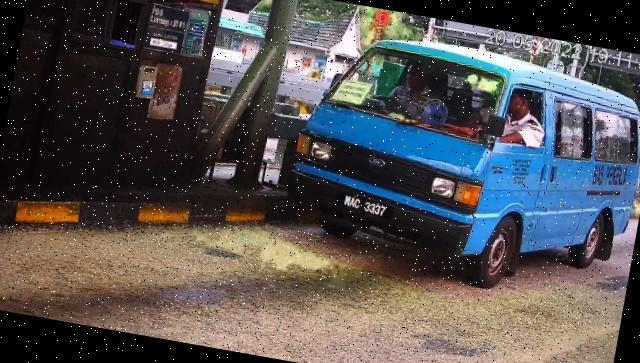License_Plate: (335, 190, 397, 225)
van: (276, 20, 640, 312)
